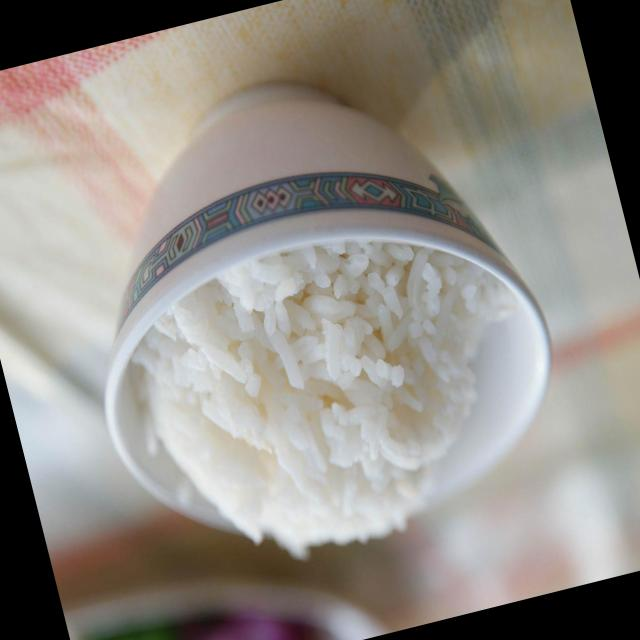rice: (139, 243, 518, 561)
